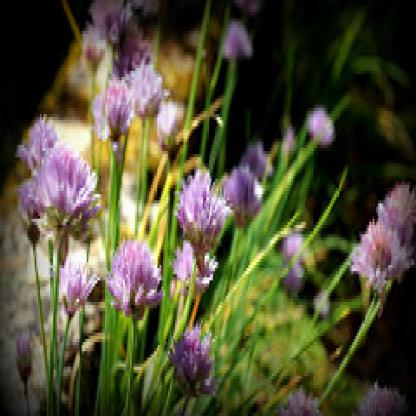Rose-Mawar: (11, 118, 230, 389), (86, 7, 169, 115), (358, 192, 415, 288)
